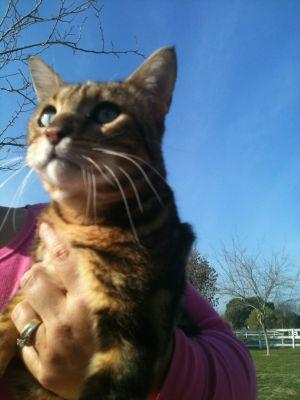bengal: (15, 38, 197, 195)
